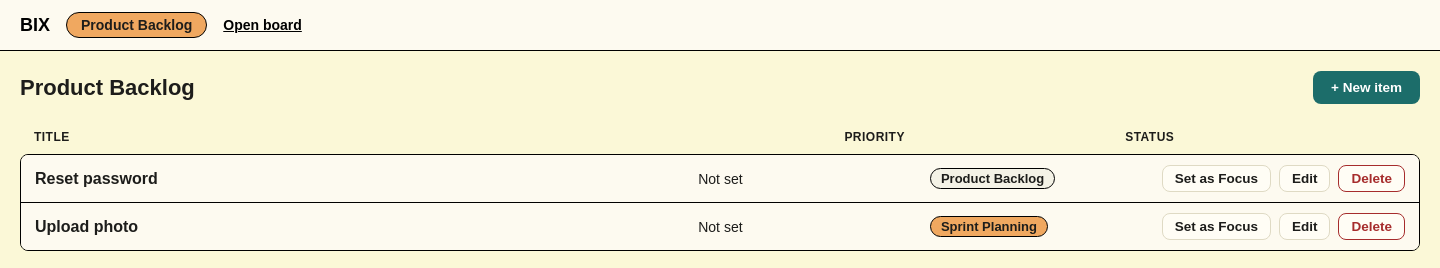
Scenario: ProductBacklog page - Current Focus (US-07) › sets the focus as a number, then shows it after refreshing the list
Click the button with aria-label "Set as Focus: Reset password".
click(1216, 178)  # box [1162,165,1271,192]
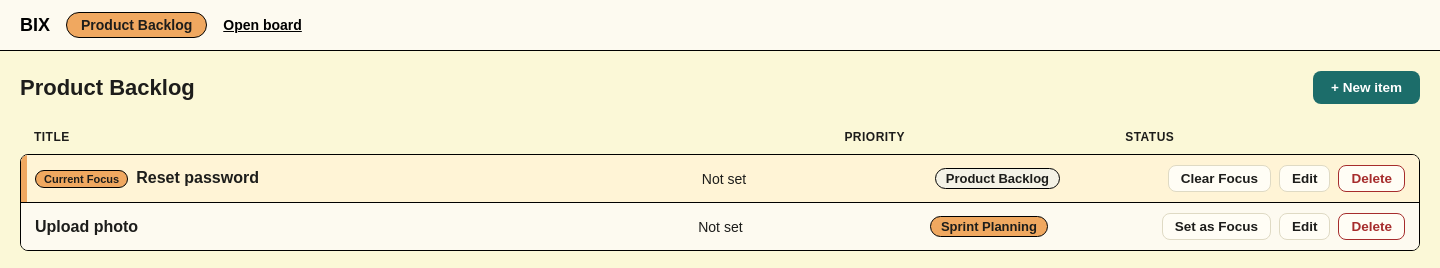
Check: the text "Current Focus" is shown, box [35,170,128,188]
